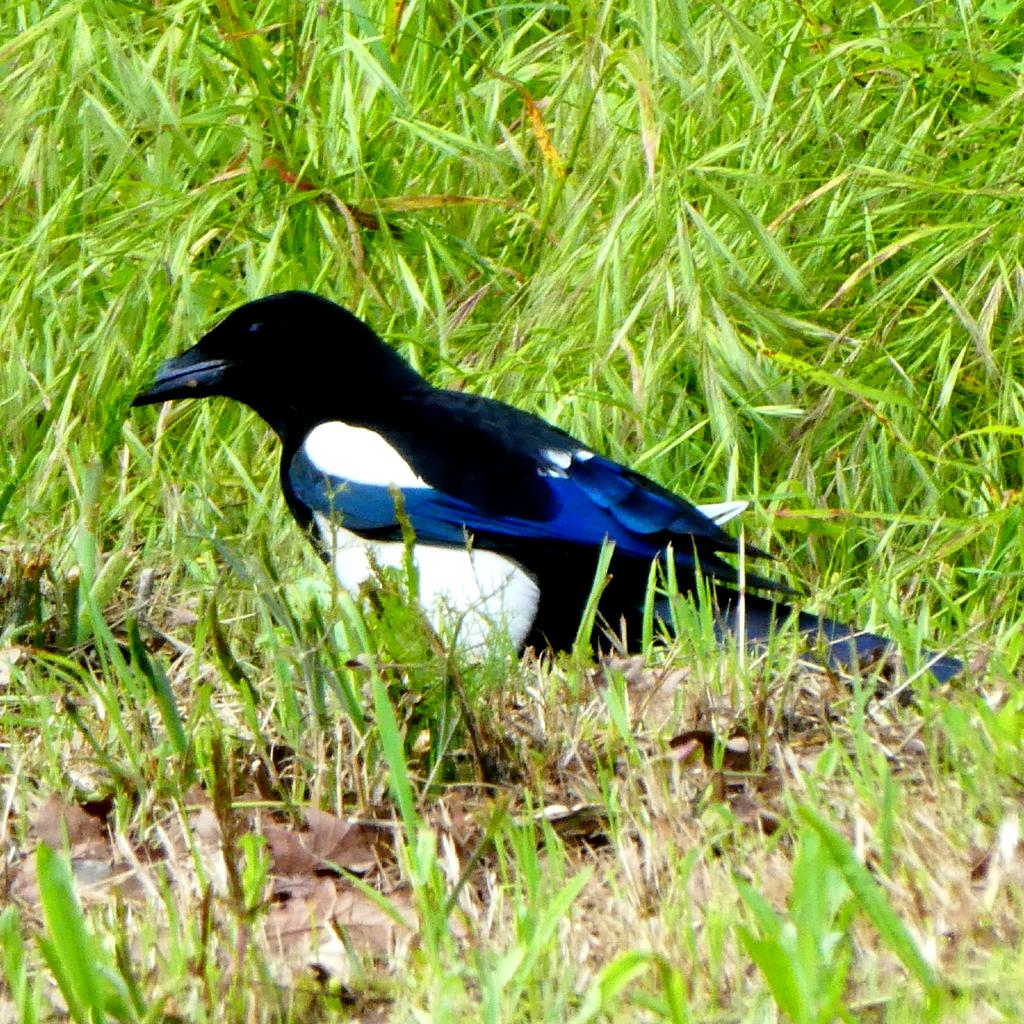PicaPica: (129, 289, 964, 692)
